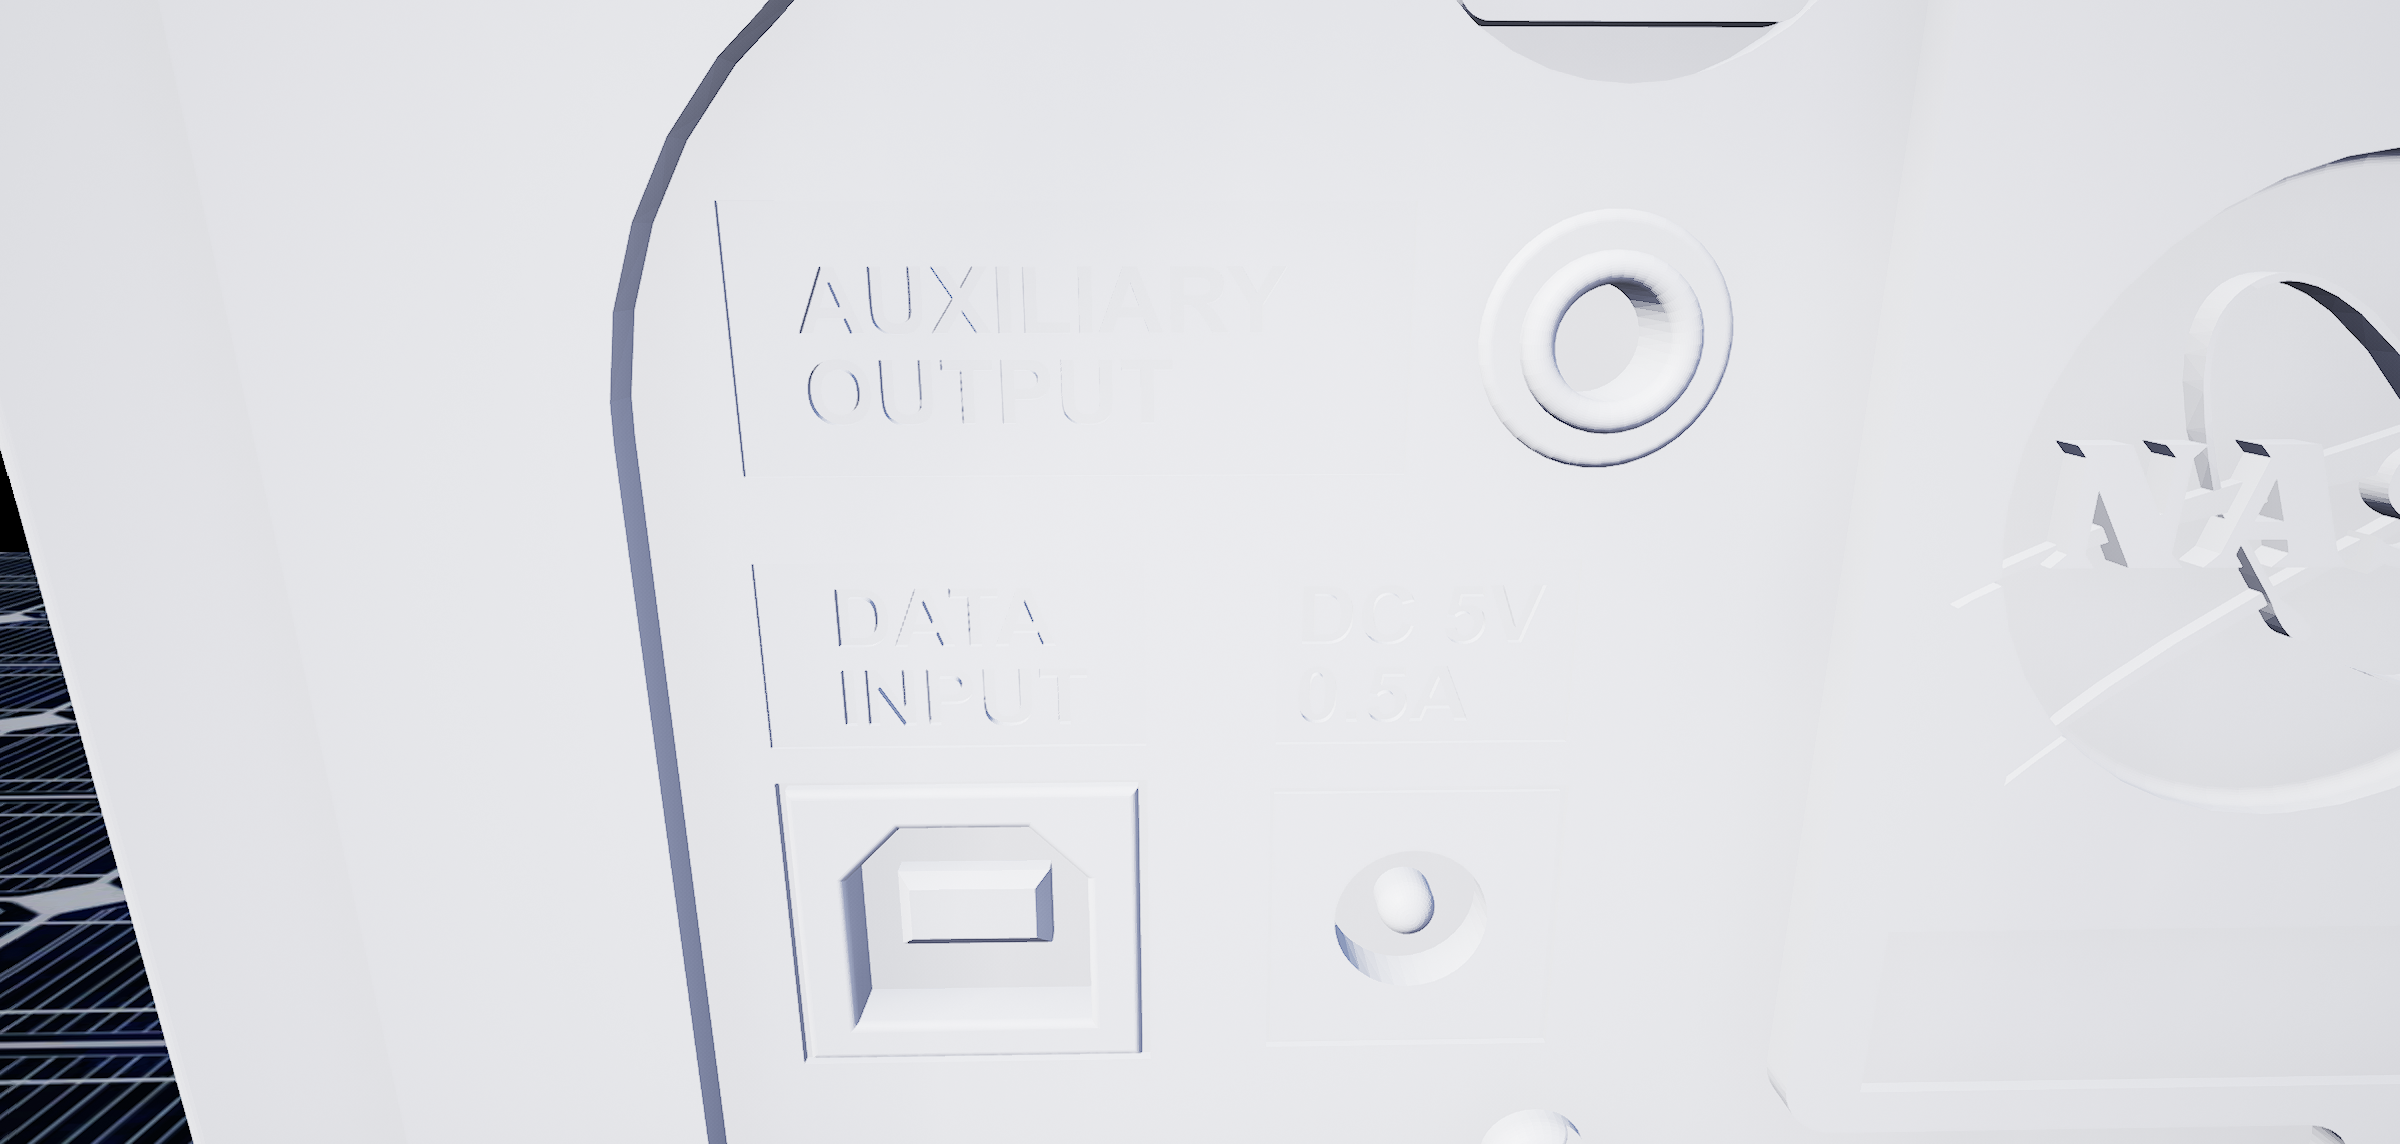aux: (1468, 198, 1748, 502)
dc: (1312, 839, 1506, 1005)
usb: (836, 816, 1107, 1034)
